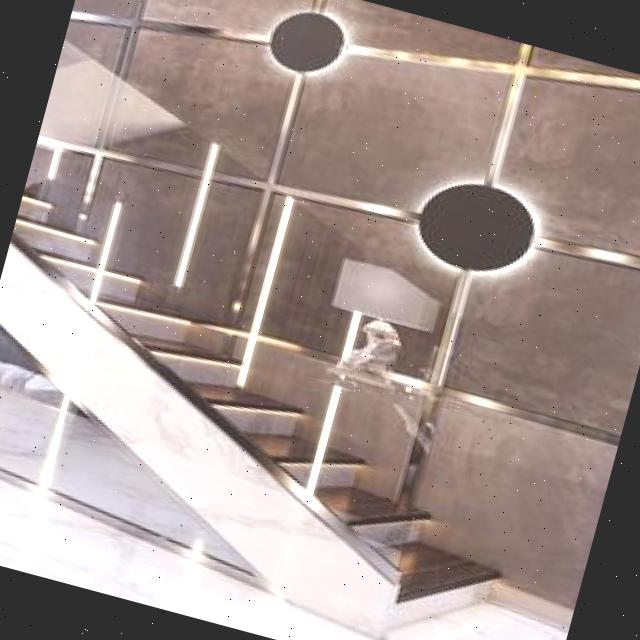stairs: (0, 196, 562, 640)
